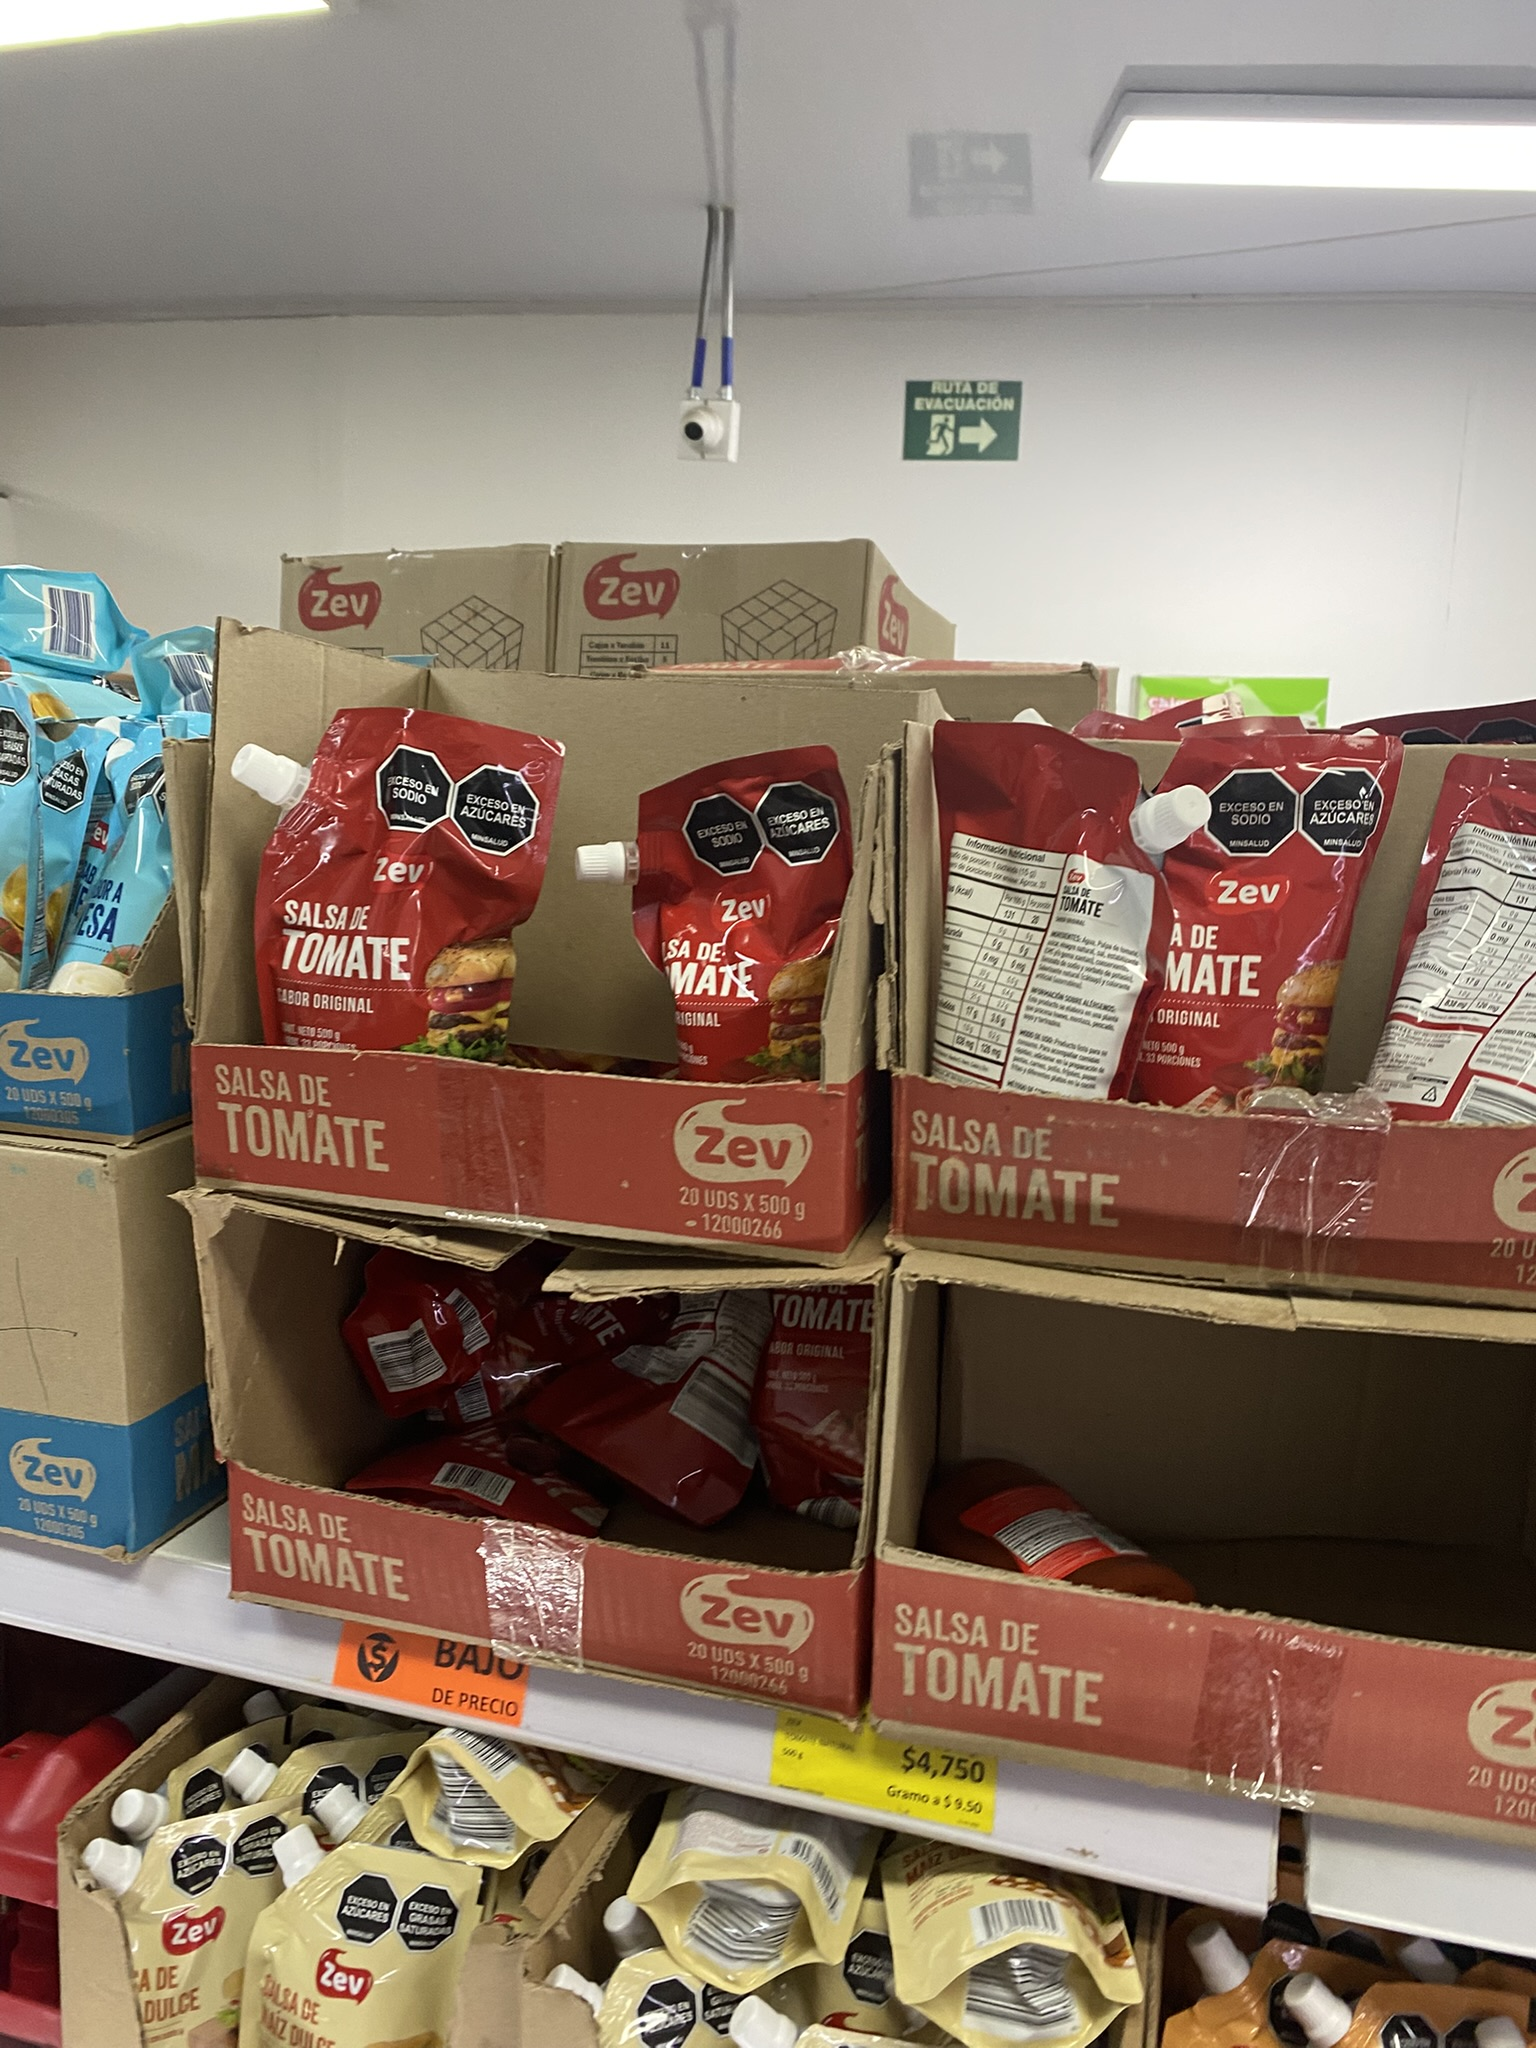Salsa de Tomate: (202, 643, 557, 1079), (1144, 726, 1404, 1134), (920, 739, 1205, 1101), (586, 734, 834, 1101), (1359, 753, 1536, 1145)
